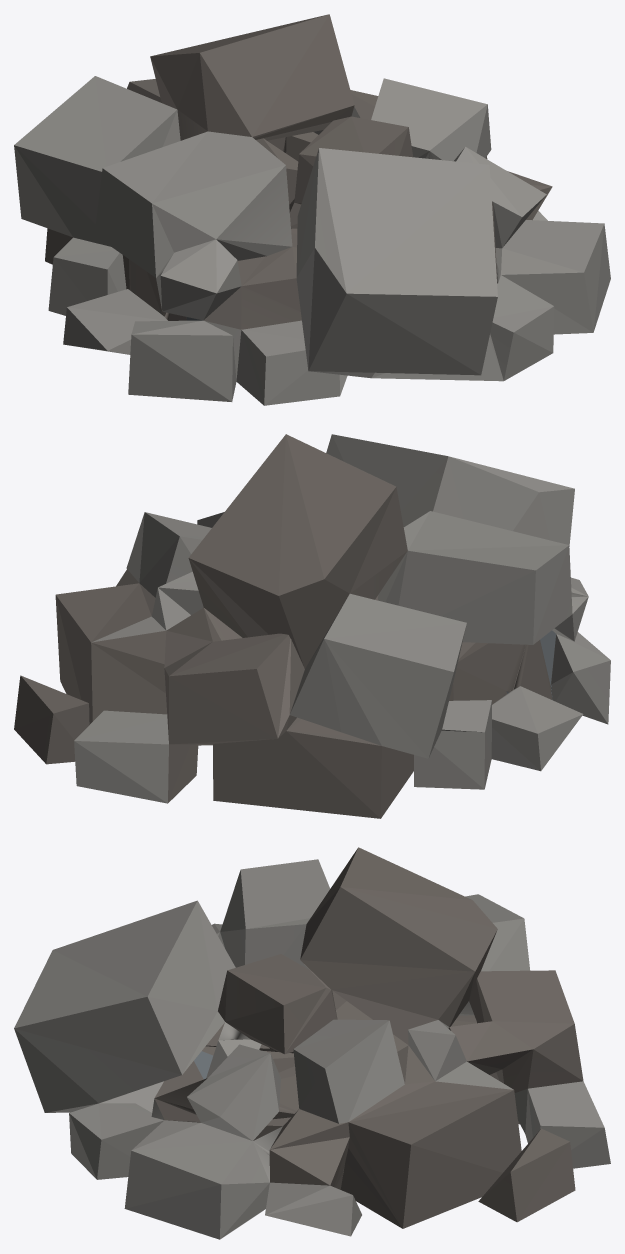
The model's file is mdvl_dungeon_rubble_01.glb.
The picture shows the model from 3 angles, top to bottom: view 1: azimuth 30°, elevation 25°; view 2: azimuth 150°, elevation 25°; view 3: azimuth 270°, elevation 25°; orthographic projection. The views are drawn at different scales.
Visible parts, largest first — view 1: mdvl_dungeon_rubble_01; view 2: mdvl_dungeon_rubble_01; view 3: mdvl_dungeon_rubble_01.
Boxes of the visible parts, x1,y1,x2,y2 form: mdvl_dungeon_rubble_01: [14, 14, 610, 405]; mdvl_dungeon_rubble_01: [14, 434, 610, 818]; mdvl_dungeon_rubble_01: [14, 847, 610, 1239].
Size of the model in its own units: 0.9256 by 0.5018 by 1.06.
1 material, 1 textured.
